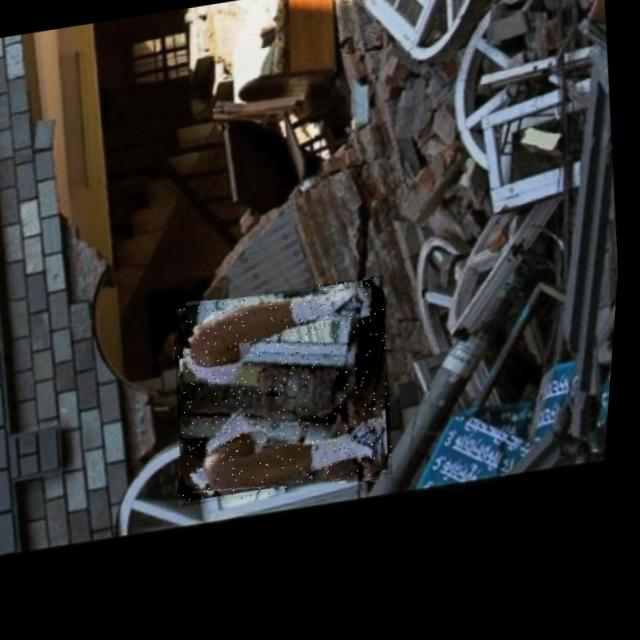Person in Rubble: (166, 277, 412, 509)
